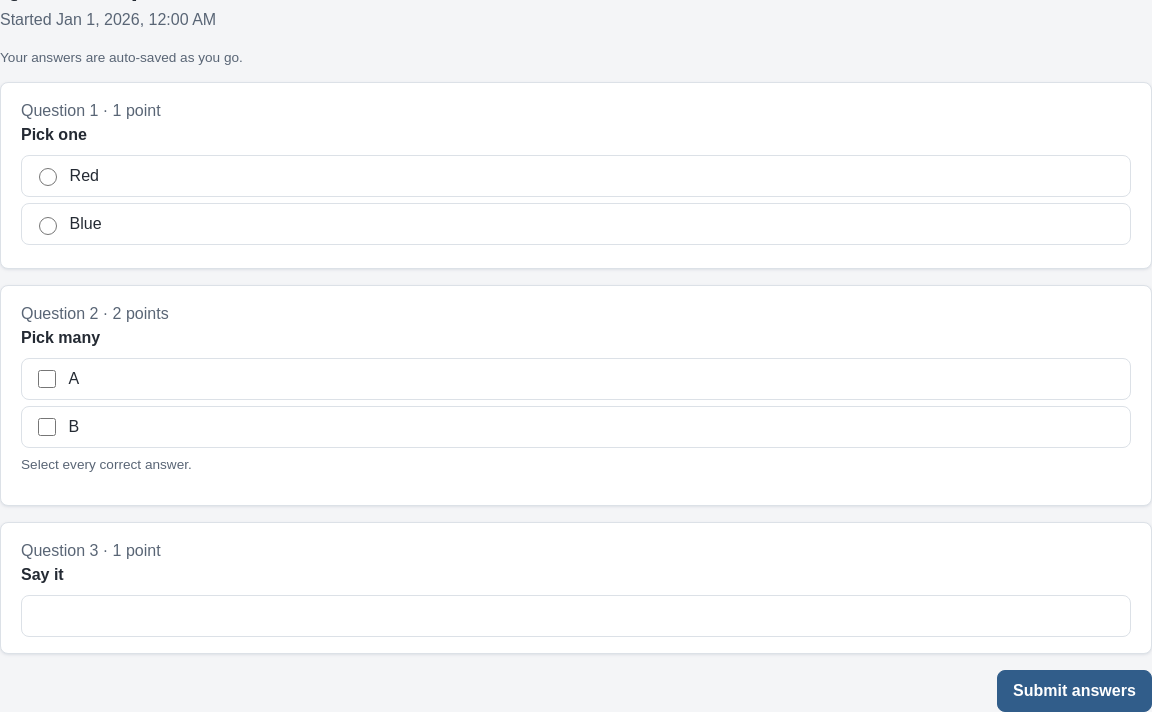
it: taking a quiz › warns how many questions are unanswered before submitting
(page scrolled)
Click the button "Submit answers". click: {"x": 1074, "y": 690}
box: [997,670,1151,711]
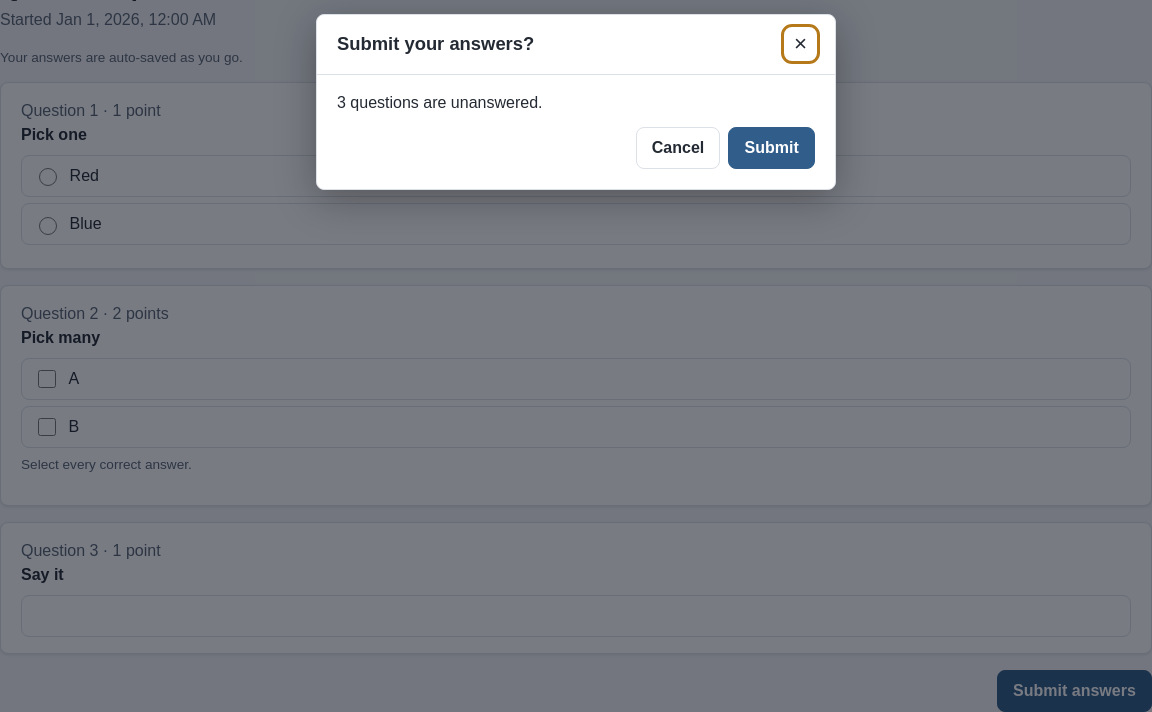
expect the text "3 questions are unanswered." is shown: met, box [337,94,542,111]
